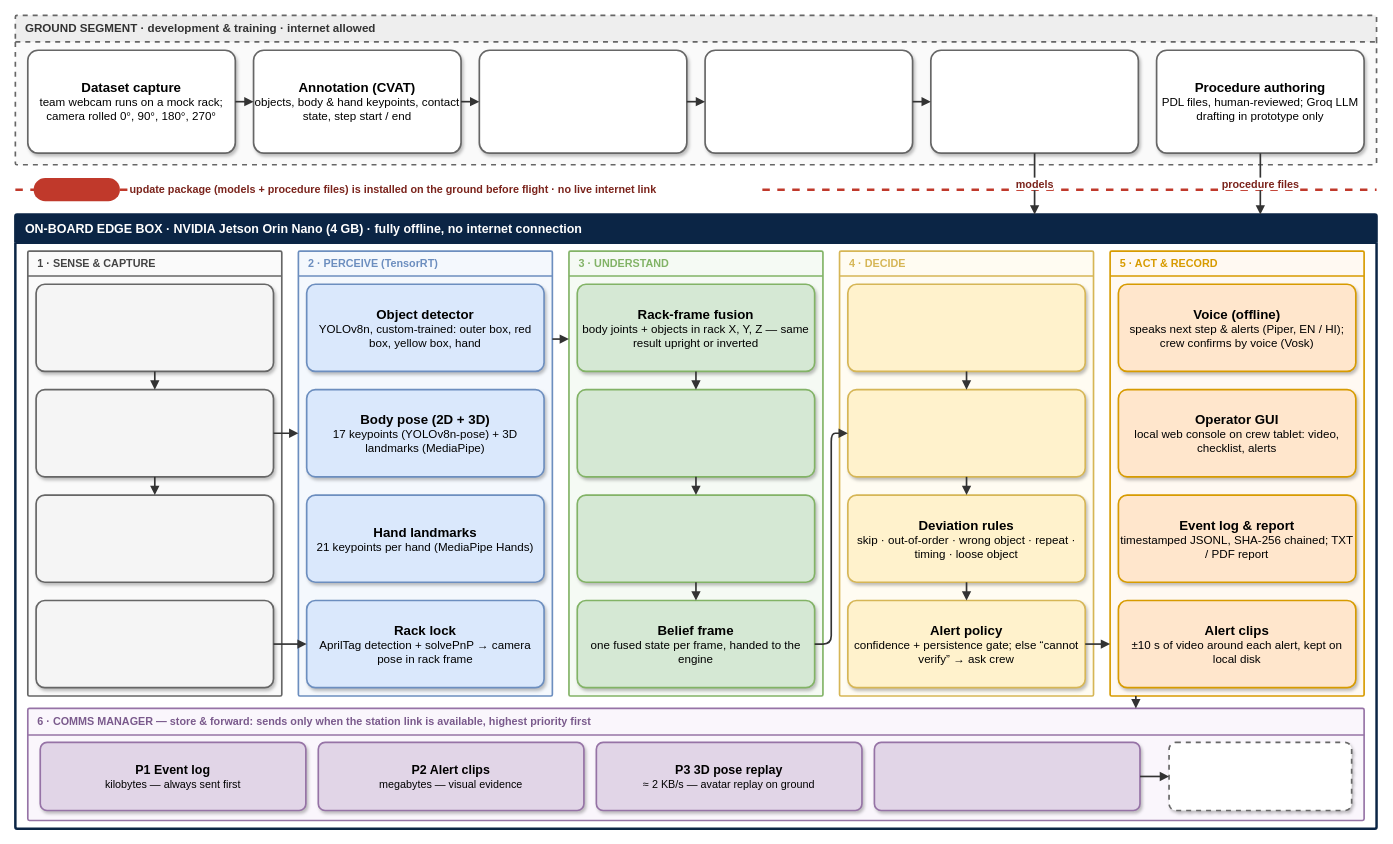
Image size: 1393x844. Some labels were removed from this diagram. The centre of each missing label's shape, as x and y in pixels:
"AIR GAP" belongs at pixel 76 189.
"AprilTag markers 4 fixed tags on the rack face define the rack frame" belongs at pixel 155 645.
"Augmentation random 3D rotation, glare, blur, partial occlusion" belongs at pixel 583 102.
"Export ONNX → TensorRT engines (FP16 / INT8) for Jetson" belongs at pixel 1035 102.
"Fixed payload camera USB3 wide-angle camera, fixed to the rack" belongs at pixel 155 329.
"Ground station at next contact" belongs at pixel 1260 777.
"GStreamer capture one camera feed → AI, recorder and live stream" belongs at pixel 155 434.
"Hand–object contact none · touch · grasp · release" belongs at pixel 696 434.
"HSMM step tracker current step + confidence, using step-duration priors" belongs at pixel 967 434.
"Motion classifier TCN over a 2 s window: reach, lift, place, withdraw" belongs at pixel 696 539.
"P4 Full video only if the link budget allows" belongs at pixel 1007 777.
"Procedure file (PDL) steps, objects, evidence rules, allowed re-orders" belongs at pixel 967 329.
"Record + live stream H.264 MP4 segments on NVMe; RTSP (MediaMTX) → configured IP" belongs at pixel 155 539.
"Training PyTorch + Ultralytics; preliminary runs on university NVIDIA DGX" belongs at pixel 809 102.
